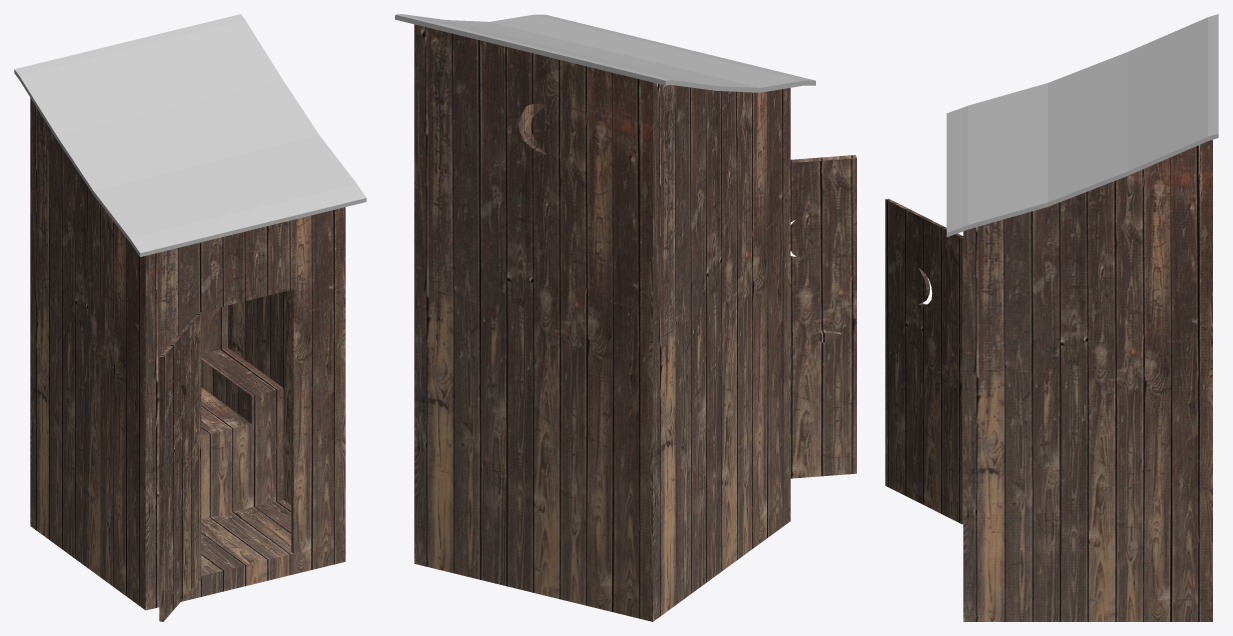
3 renders of one model, left to right at view 1: azimuth 30°, elevation 25°; view 2: azimuth 150°, elevation 25°; view 3: azimuth 270°, elevation 25°, orthographic. The views are drawn at different scales.
Visible parts, largest first — view 1: bathroom, Door; view 2: bathroom, Door; view 3: bathroom, Door.
Part boxes in pixels (x1,y1,x2,y2): bathroom: (14,14,366,610); Door: (157,313,201,621); bathroom: (395,14,815,621); Door: (790,155,856,478); bathroom: (946,14,1218,621); Door: (885,198,963,524).
Size of the model in its own units: 111 by 207 by 126.
